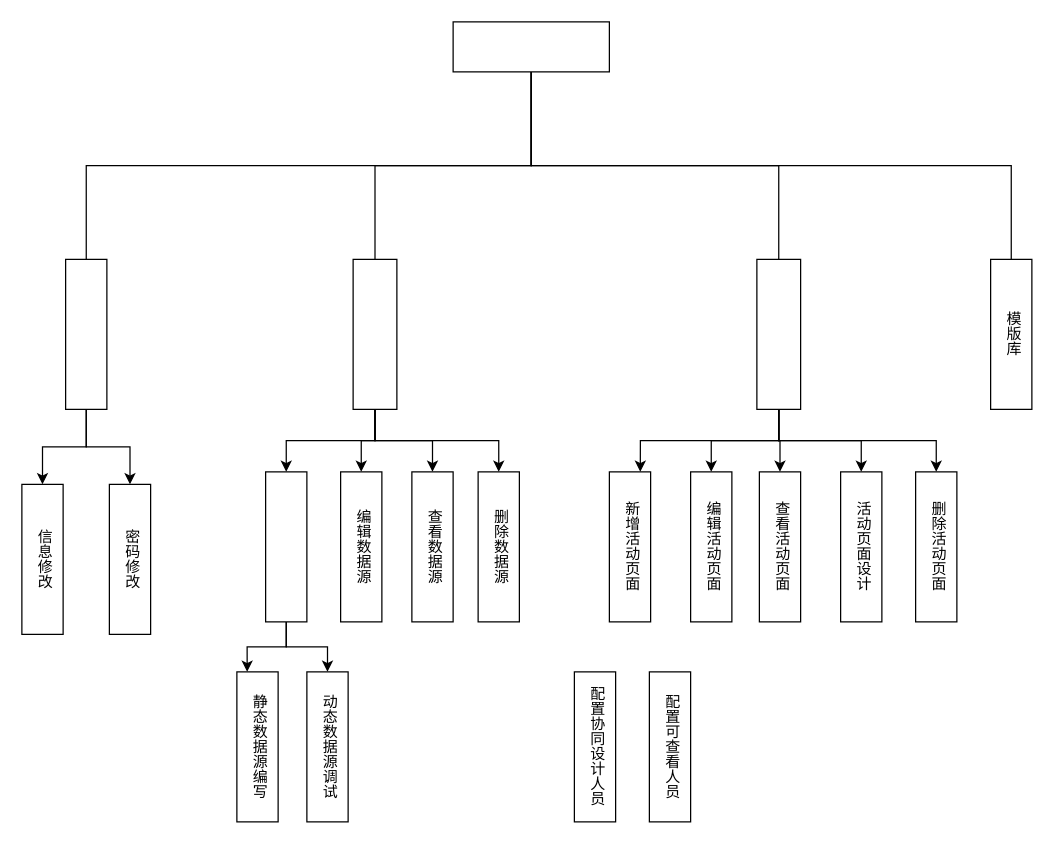
Some shapes in this 1054 by 844 pixel diagram are drawn without their labels. The shapes that lost their labels are listed below. From the top down, each one's centre as x and y in pixels, then its label:
the point at 530,46: 用户模块
the point at 85,333: 用户信息修改
the point at 374,333: 数据源管理
the point at 778,333: 活动页面管理
the point at 285,546: 新增数据源
